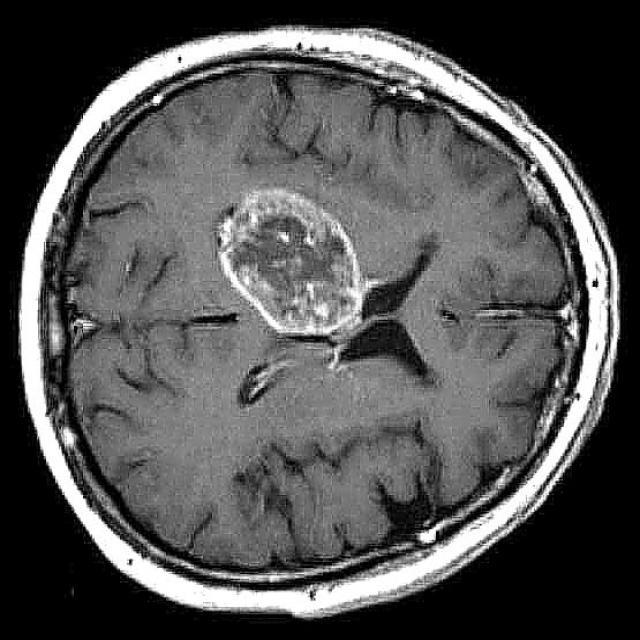tumor: (217, 186, 397, 347)
